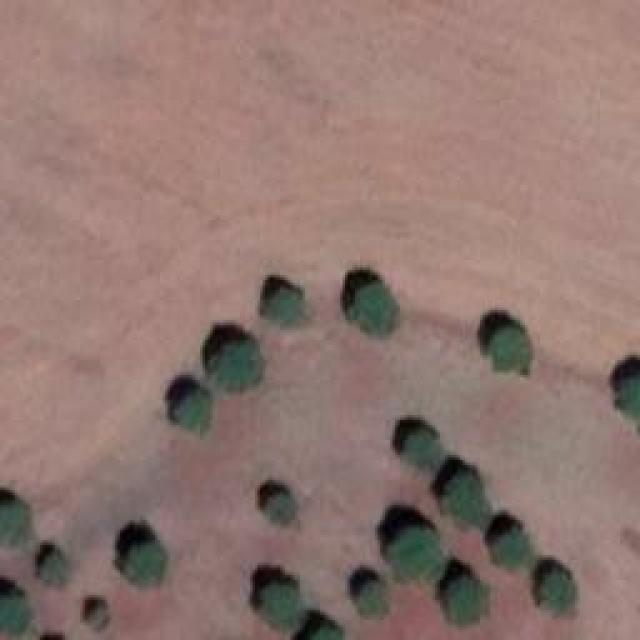Tree: (390, 523, 448, 586), (443, 470, 493, 525), (208, 340, 263, 390), (350, 278, 395, 333), (263, 580, 306, 633), (445, 575, 488, 628), (538, 570, 583, 620), (495, 325, 535, 380), (485, 523, 528, 573), (125, 540, 168, 588), (263, 285, 308, 330), (403, 428, 446, 471), (0, 587, 32, 640), (612, 370, 640, 430), (0, 500, 35, 545), (38, 550, 71, 593), (175, 393, 210, 428), (258, 495, 293, 528), (355, 580, 388, 615), (83, 600, 108, 628)
